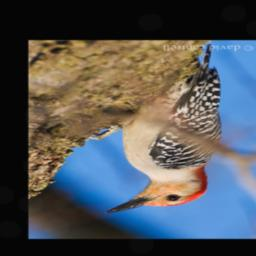Woodpecker: (104, 44, 221, 215)
